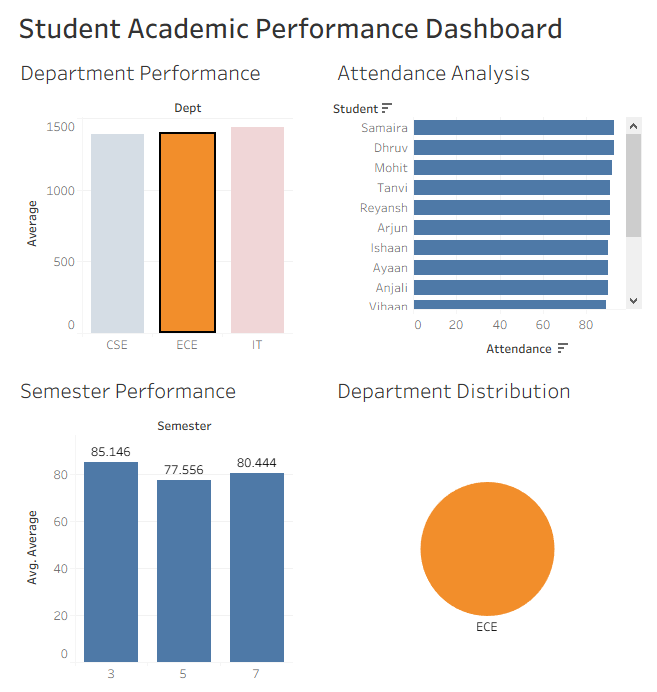

This screenshot's page, from the dashboard's own definition file:
{"tool":"tableau","page":{"name":"Student Academic Performance Dashboard","canvas":[1000,1000],"units":"permille","ordinal":0},"visuals":[{"type":"title","box":[12.3,14.3,975.4,80.4]},{"type":"worksheet","title":"Department Performance","mark":"Automatic","rows":["Average"],"cols":["Dept"],"box":[12.3,94.7,438.5,445.5]},{"type":"blank","box":[450.8,94.7,49.2,891.1]},{"type":"worksheet","title":"Attendance Analysis","mark":"Automatic","rows":["Student"],"cols":["Attendance"],"box":[500,94.7,487.7,445.5]},{"type":"worksheet","title":"Semester Performance","mark":"Automatic","rows":["Average"],"cols":["Semester"],"box":[12.3,540.1,438.5,445.6]},{"type":"worksheet","title":"Department Distribution","mark":"Pie","box":[500,540.1,487.7,445.6]}]}

Visuals, with their boxes on the dashboard's canvas, which has no fixed pixel size, in thousandths of its width and height (x1, y1, x2, y2). These are canvas units, not pixel positions in the 657x692 screenshot, which may show the page scaled, cropped or inside an application window:
title: l=12, t=14, r=988, b=95
"Department Performance" worksheet: l=12, t=95, r=451, b=540
blank: l=451, t=95, r=500, b=986
"Attendance Analysis" worksheet: l=500, t=95, r=988, b=540
"Semester Performance" worksheet: l=12, t=540, r=451, b=986
"Department Distribution" worksheet (Pie marks): l=500, t=540, r=988, b=986
